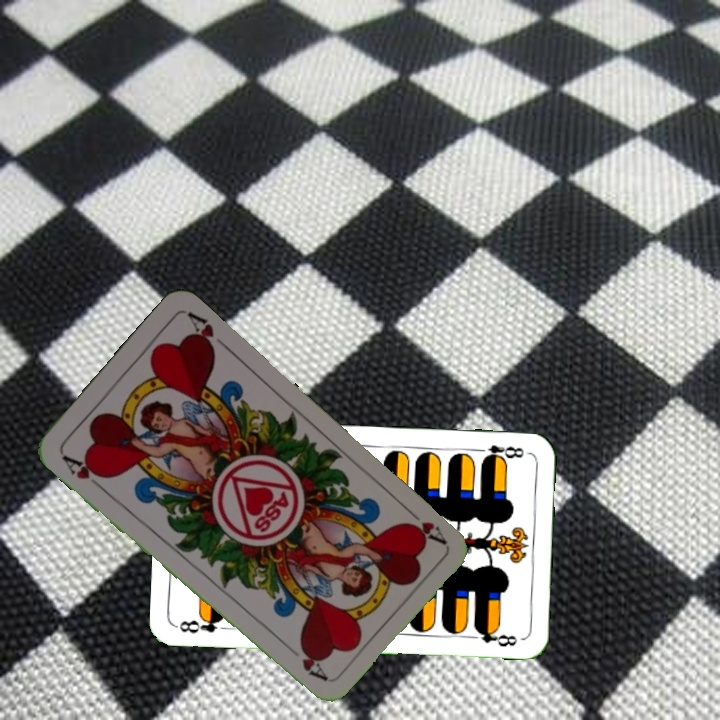E8: (174, 612, 227, 636), (471, 441, 526, 464)
HA: (400, 501, 448, 547), (58, 450, 109, 493)
